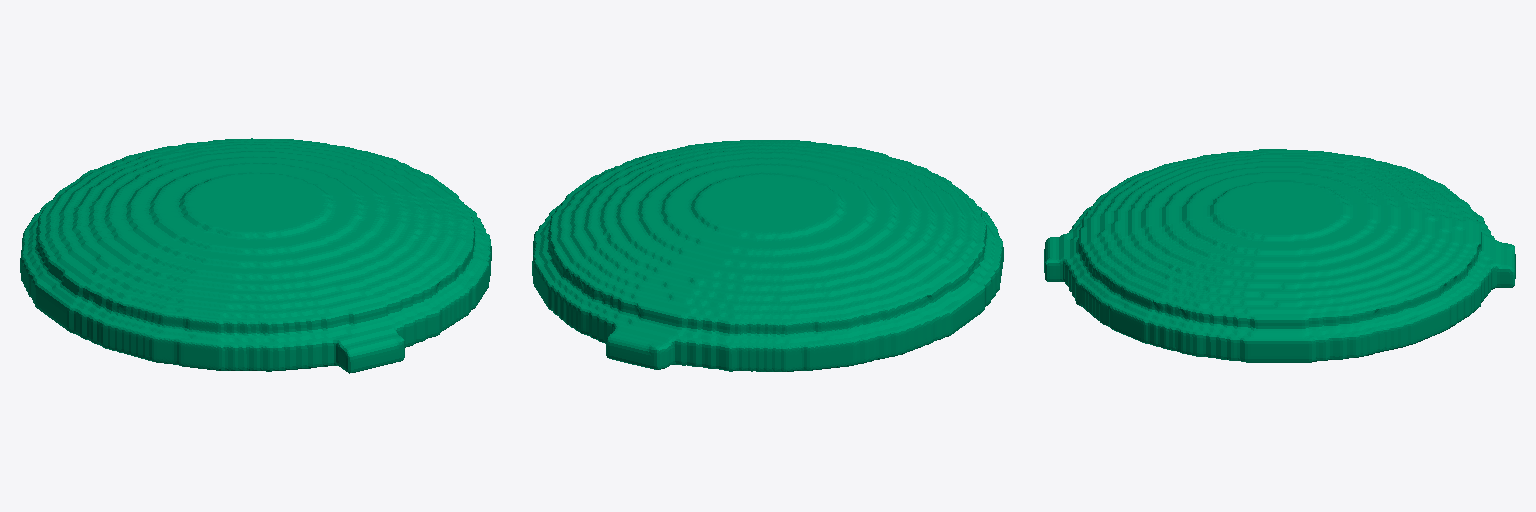
URDF robot description (object):
<?xml version='1.0' encoding='utf-8'?>
<robot name="object">
  <link name="base">
    <inertial>
      <origin xyz="0 0 0" rpy="0 0 0" />
      <mass value="0.0" />
      <inertia ixx="0" ixy="0" ixz="0" iyy="0" iyz="0" izz="0" />
    </inertial>
  </link>
  <link name="link_1">
    <visual>
      <origin xyz="0 0 0" rpy="0 0 0" />
      <geometry>
        <mesh filename="meshes/link_1.stl" />
      </geometry>
    </visual>
    <collision>
      <origin xyz="0 0 0" rpy="0 0 0" />
      <geometry>
        <mesh filename="meshes/link_1.stl" />
      </geometry>
    </collision>
    <inertial>
      <origin xyz="-0.00425217568 0.0253633062 -0.190025558" rpy="0 0 0" />
      <mass value="1272.26176" />
      <inertia ixx="278.529172" ixy="-0.00497065126" ixz="-0.00040860461" iyy="278.275259" iyz="-0.00898704158" izz="198.935067" />
    </inertial>
  </link>
  <link name="link_2">
    <visual>
      <origin xyz="0.00499767736 -0.0242939146 -0.434331346" rpy="0 0 0" />
      <geometry>
        <mesh filename="meshes/link_2.stl" />
      </geometry>
    </visual>
    <collision>
      <origin xyz="0.00499767736 -0.0242939146 -0.434331346" rpy="0 0 0" />
      <geometry>
        <mesh filename="meshes/link_2.stl" />
      </geometry>
    </collision>
    <inertial>
      <origin xyz="0.000826755361 0.00102699912 1.12653439" rpy="0 0 0" />
      <mass value="208.785732" />
      <inertia ixx="-7714.55472" ixy="-0.015867216" ixz="0.0229198619" iyy="-7714.95412" iyz="0.00334978201" izz="36.5517186" />
    </inertial>
  </link>
  <joint name="joint_1_2" type="prismatic">
    <parent link="link_1" />
    <child link="link_2" />
    <origin xyz="-0.00499767736 0.0242939146 0.434331346" rpy="0 0 0" />
    <axis xyz="-9.30758134e-05 -0.00013221836 -0.999999987" />
    <limit lower="-1.57" upper="1.57" effort="10.0" velocity="1.0" />
  </joint>
  <joint name="base_to_1" type="fixed">
    <parent link="base" />
    <child link="link_1" />
    <origin xyz="0 0 0" rpy="0 0 0" />
  </joint>
</robot>

--- Facts derived from the render (not from the file) ---
The picture shows the robot from 3 angles, left to right: view 1: azimuth 30°, elevation 25°; view 2: azimuth 150°, elevation 25°; view 3: azimuth 270°, elevation 25°; orthographic projection.
Model object with 3 links and 2 joints (1 prismatic, 1 fixed), rooted at base, posed every joint at zero.
Links seen in each view (by area): view 1: link_2; view 2: link_2; view 3: link_2.
Boxes of the visible links, x1,y1,x2,y2 form: link_2: (20, 138, 491, 373); link_2: (532, 140, 1003, 371); link_2: (1044, 149, 1515, 362).
Bounding box of the posed robot: 1.26 × 1.38 × 0.2187 m (x, y, z).
1 mesh visuals loaded from 2 distinct referenced files (1 binary STL); not drawn: 1 (reference not matched to a file when rendering).
